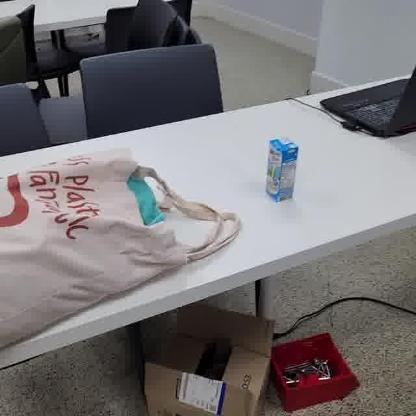Others: (262, 126, 304, 208)
